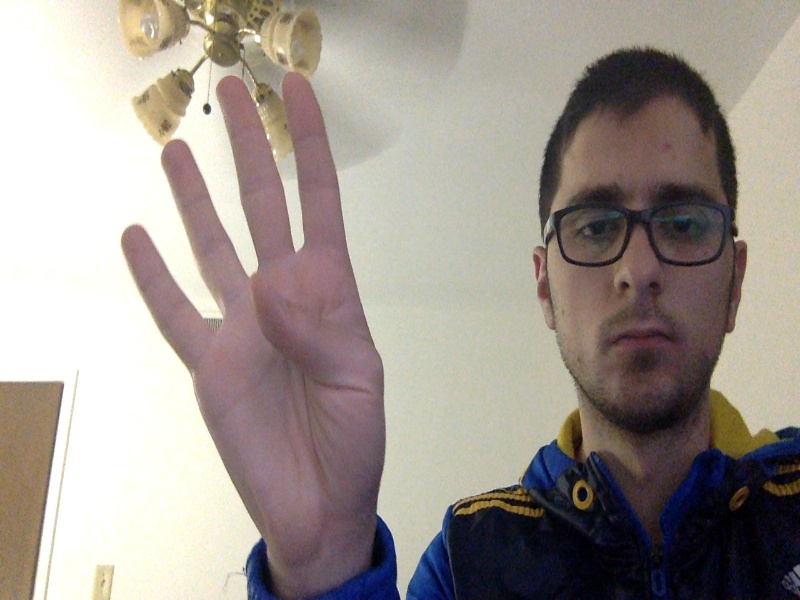4-hand: (121, 69, 385, 565)
